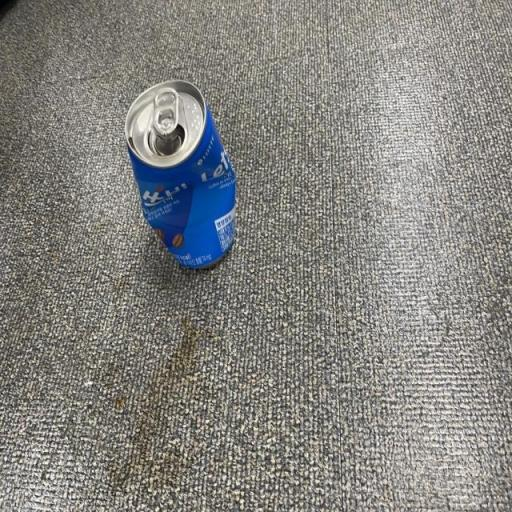metal: (116, 72, 253, 282)
